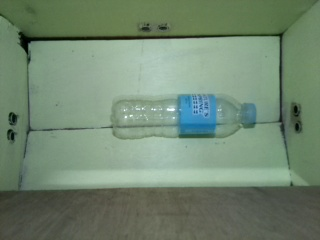bottle: (110, 92, 259, 141)
